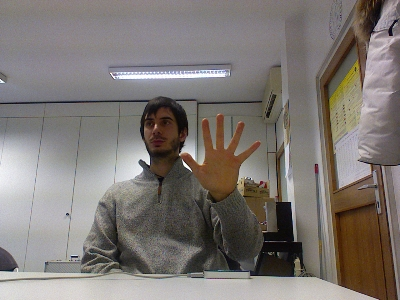布: (179, 112, 260, 196)
